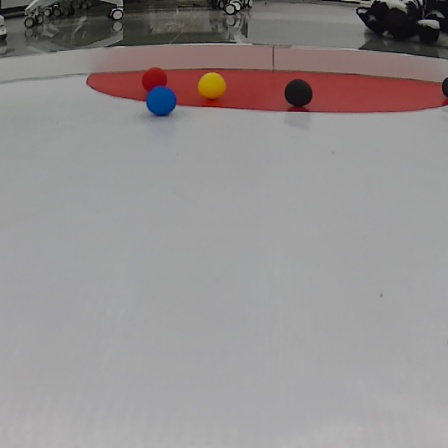black: (282, 78, 314, 109), (441, 76, 448, 102)
blue: (144, 85, 180, 116)
red: (142, 66, 172, 91)
red_base: (81, 64, 448, 117)
yellow: (197, 71, 232, 102)
